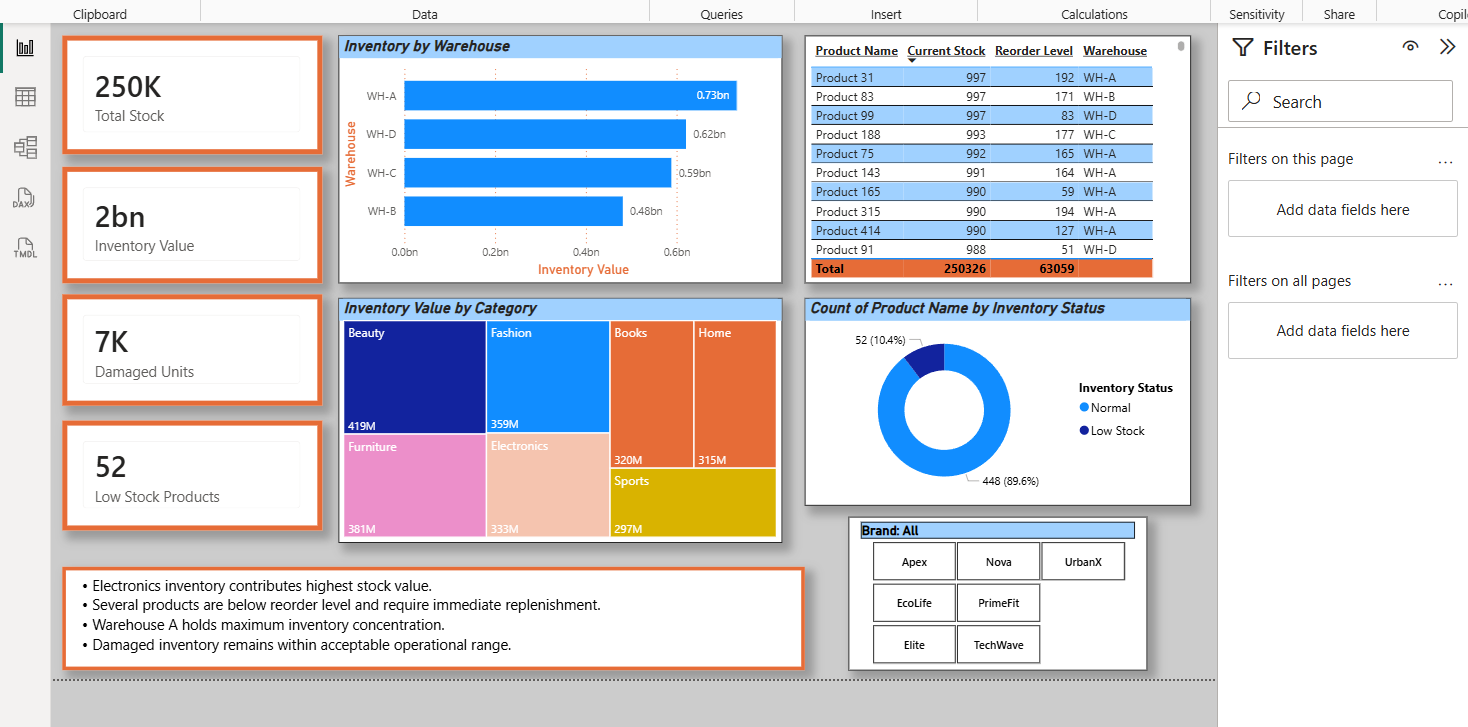

The dashboard page shown, as its layout file describes it:
{"tool":"powerbi","page":{"name":"INVENTORY DASHBOARD","canvas":[1280,720],"ordinal":1},"visuals":[{"type":"cardVisual","fields":{"Data":["CUSTOMER.Total Stock"]},"box":[12.3,13.7,285.4,130.4],"z":0},{"type":"cardVisual","fields":{"Data":["CUSTOMER.Inventory Value"]},"box":[12.3,157.8,285.4,127.6],"z":1000},{"type":"cardVisual","fields":{"Data":["CUSTOMER.Damaged Units"]},"box":[12.3,297.8,285.4,122.1],"z":2000},{"type":"cardVisual","fields":{"Data":["CUSTOMER.Low Stock Products"]},"box":[12.3,436.4,285.4,120.8],"z":3000},{"type":"clusteredBarChart","title":"Inventory by Warehouse","fields":{"Category":["INVENTORY.Warehouse"],"Y":["CUSTOMER.Inventory Value"]},"box":[315.6,13.7,487.1,271.7],"z":4000},{"type":"treemap","fields":{"Group":["PRODUCT.Category"],"Values":["CUSTOMER.Inventory Value"]},"box":[315.6,301.9,487.1,269],"z":5000},{"type":"tableEx","fields":{"Values":["PRODUCT.Product Name","Sum(INVENTORY.Current Stock)","Sum(INVENTORY.Reorder Level)","INVENTORY.Warehouse"]},"box":[827.4,13.7,424,271.7],"z":6000},{"type":"donutChart","fields":{"Category":["INVENTORY.Inventory Status"],"Y":["CountNonNull(PRODUCT.Product Name)"]},"box":[827.4,301.9,424,227.8],"z":7000},{"type":"slicer","fields":{"Values":["PRODUCT.Brand"]},"box":[875.5,542,328,168.8],"z":8000},{"type":"textbox","box":[12.3,596.9,815.1,113.9],"z":9000}]}

Visuals, with their boxes on the page's 1280x720 design canvas (x1, y1, x2, y2). These are canvas units, not pixel positions in the 1468x727 screenshot, which may show the page scaled, cropped or inside an application window:
cardVisual - CUSTOMER.Total Stock: [left=12, top=14, right=298, bottom=144]
cardVisual - CUSTOMER.Inventory Value: [left=12, top=158, right=298, bottom=285]
cardVisual - CUSTOMER.Damaged Units: [left=12, top=298, right=298, bottom=420]
cardVisual - CUSTOMER.Low Stock Products: [left=12, top=436, right=298, bottom=557]
"Inventory by Warehouse" clusteredBarChart: [left=316, top=14, right=803, bottom=285]
treemap - PRODUCT.Category x CUSTOMER.Inventory Value: [left=316, top=302, right=803, bottom=571]
tableEx - PRODUCT.Product Name x Sum(INVENTORY.Current Stock): [left=827, top=14, right=1251, bottom=285]
donutChart - INVENTORY.Inventory Status x CountNonNull(PRODUCT.Product Name): [left=827, top=302, right=1251, bottom=530]
slicer - PRODUCT.Brand: [left=876, top=542, right=1204, bottom=711]
textbox: [left=12, top=597, right=827, bottom=711]
